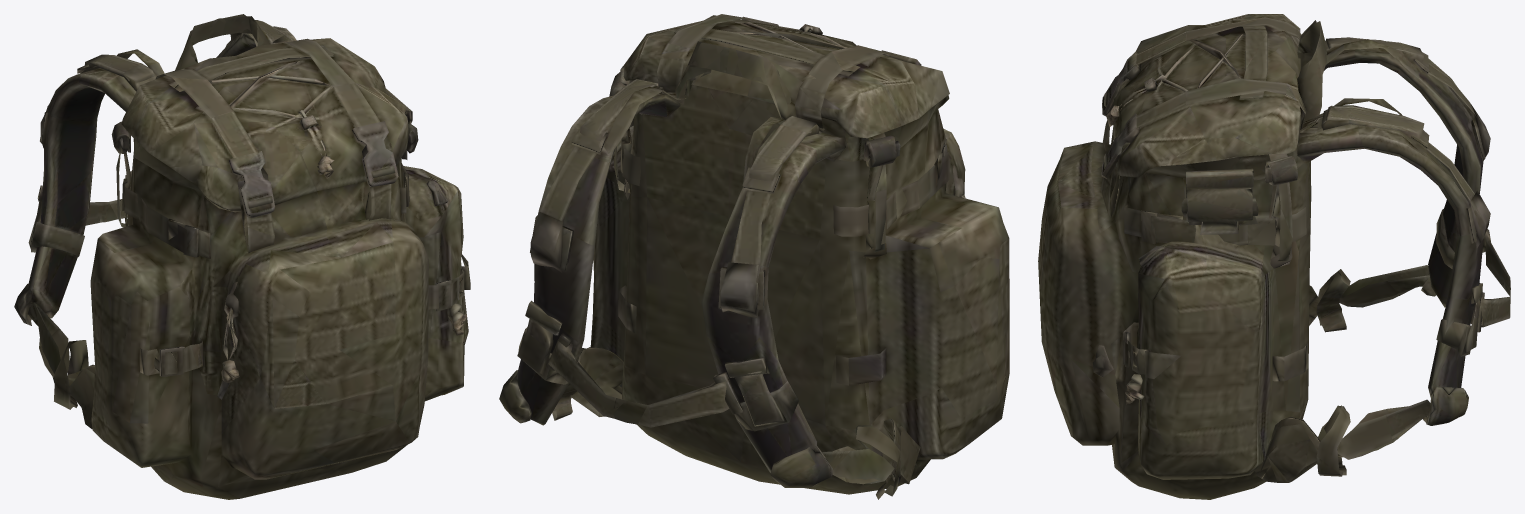
Rendered from g_backpack_green.glb.
3 renders of one model, left to right at view 1: azimuth 30°, elevation 25°; view 2: azimuth 150°, elevation 25°; view 3: azimuth 270°, elevation 25°, orthographic. The views are drawn at different scales.
Bounding box in the file's own units: 0.8477 × 0.9536 × 0.9507.
Materials: 1 (1 with a texture image).
